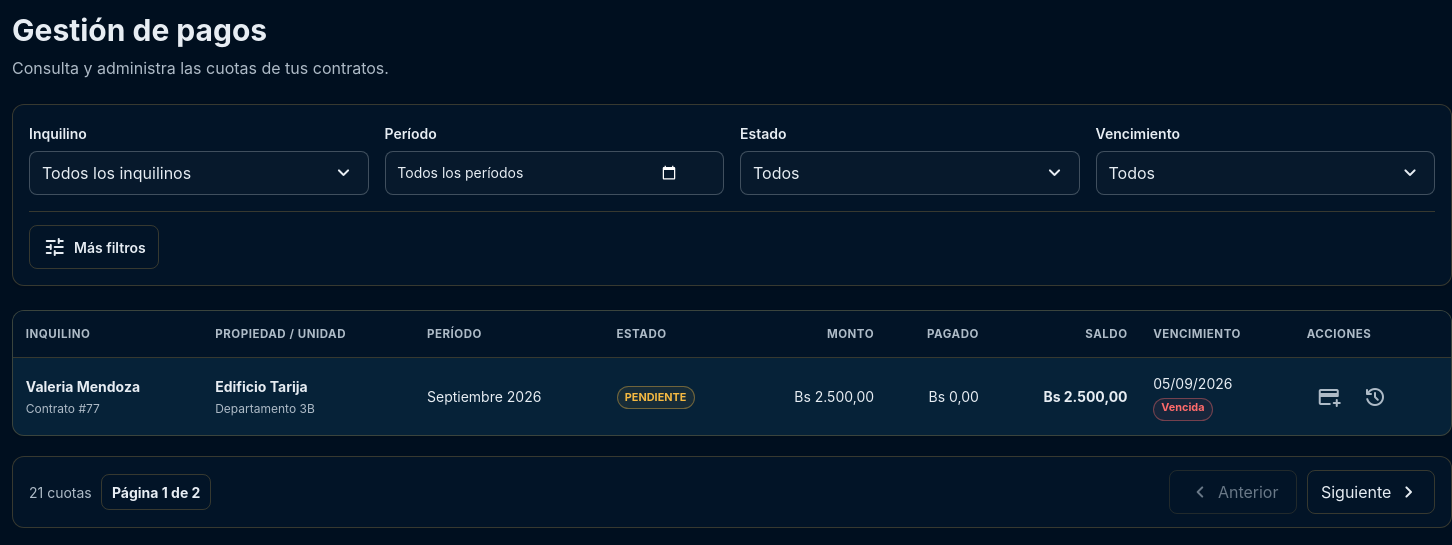
Test case: PagosListComponent › converts the selected month into an API period and keeps it while paging
Type "2026-09" into the field labelled "Período" at (554, 173), box [384,151,724,195]
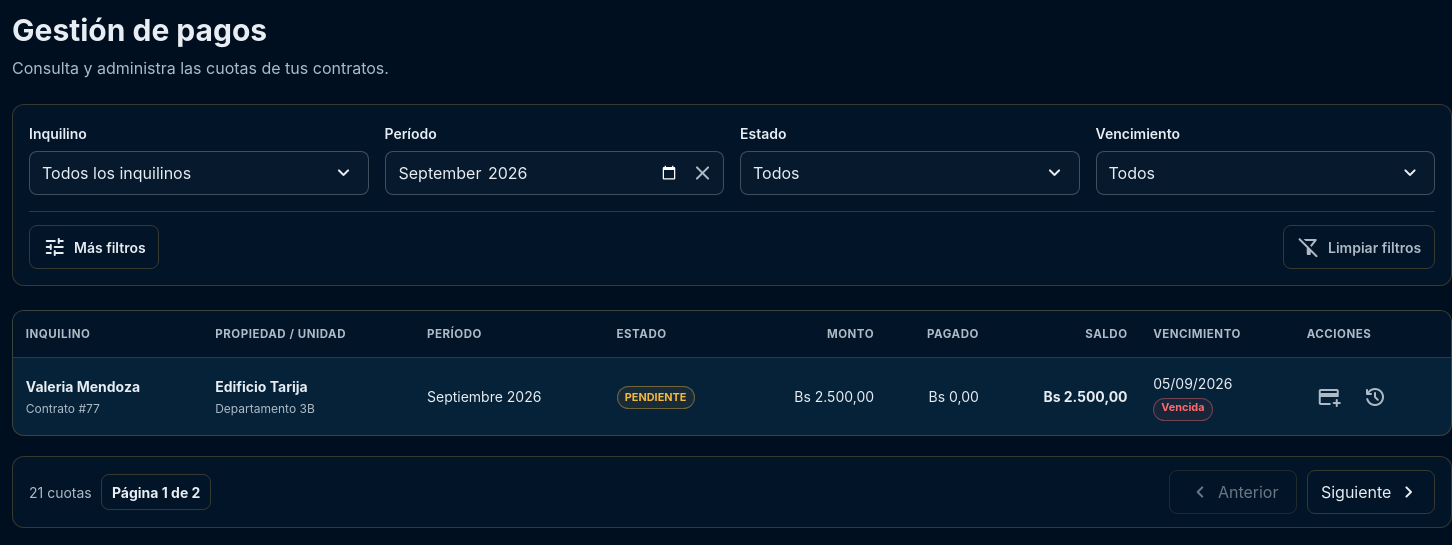
Click the button "Siguiente" at (1371, 492), box [1307,470,1435,514]
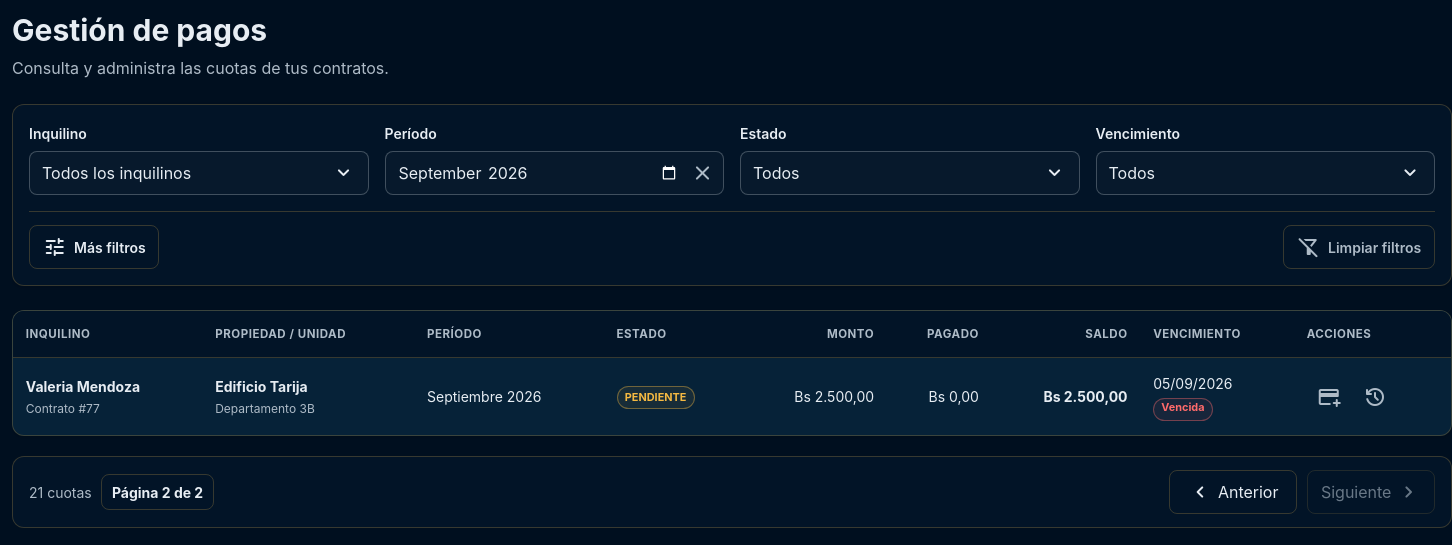
Check: the text "Página 2 de 2" is shown, box [101,474,214,510]
